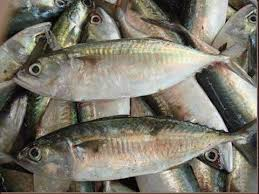Ikan Selar: (15, 34, 231, 99), (18, 120, 255, 179)
